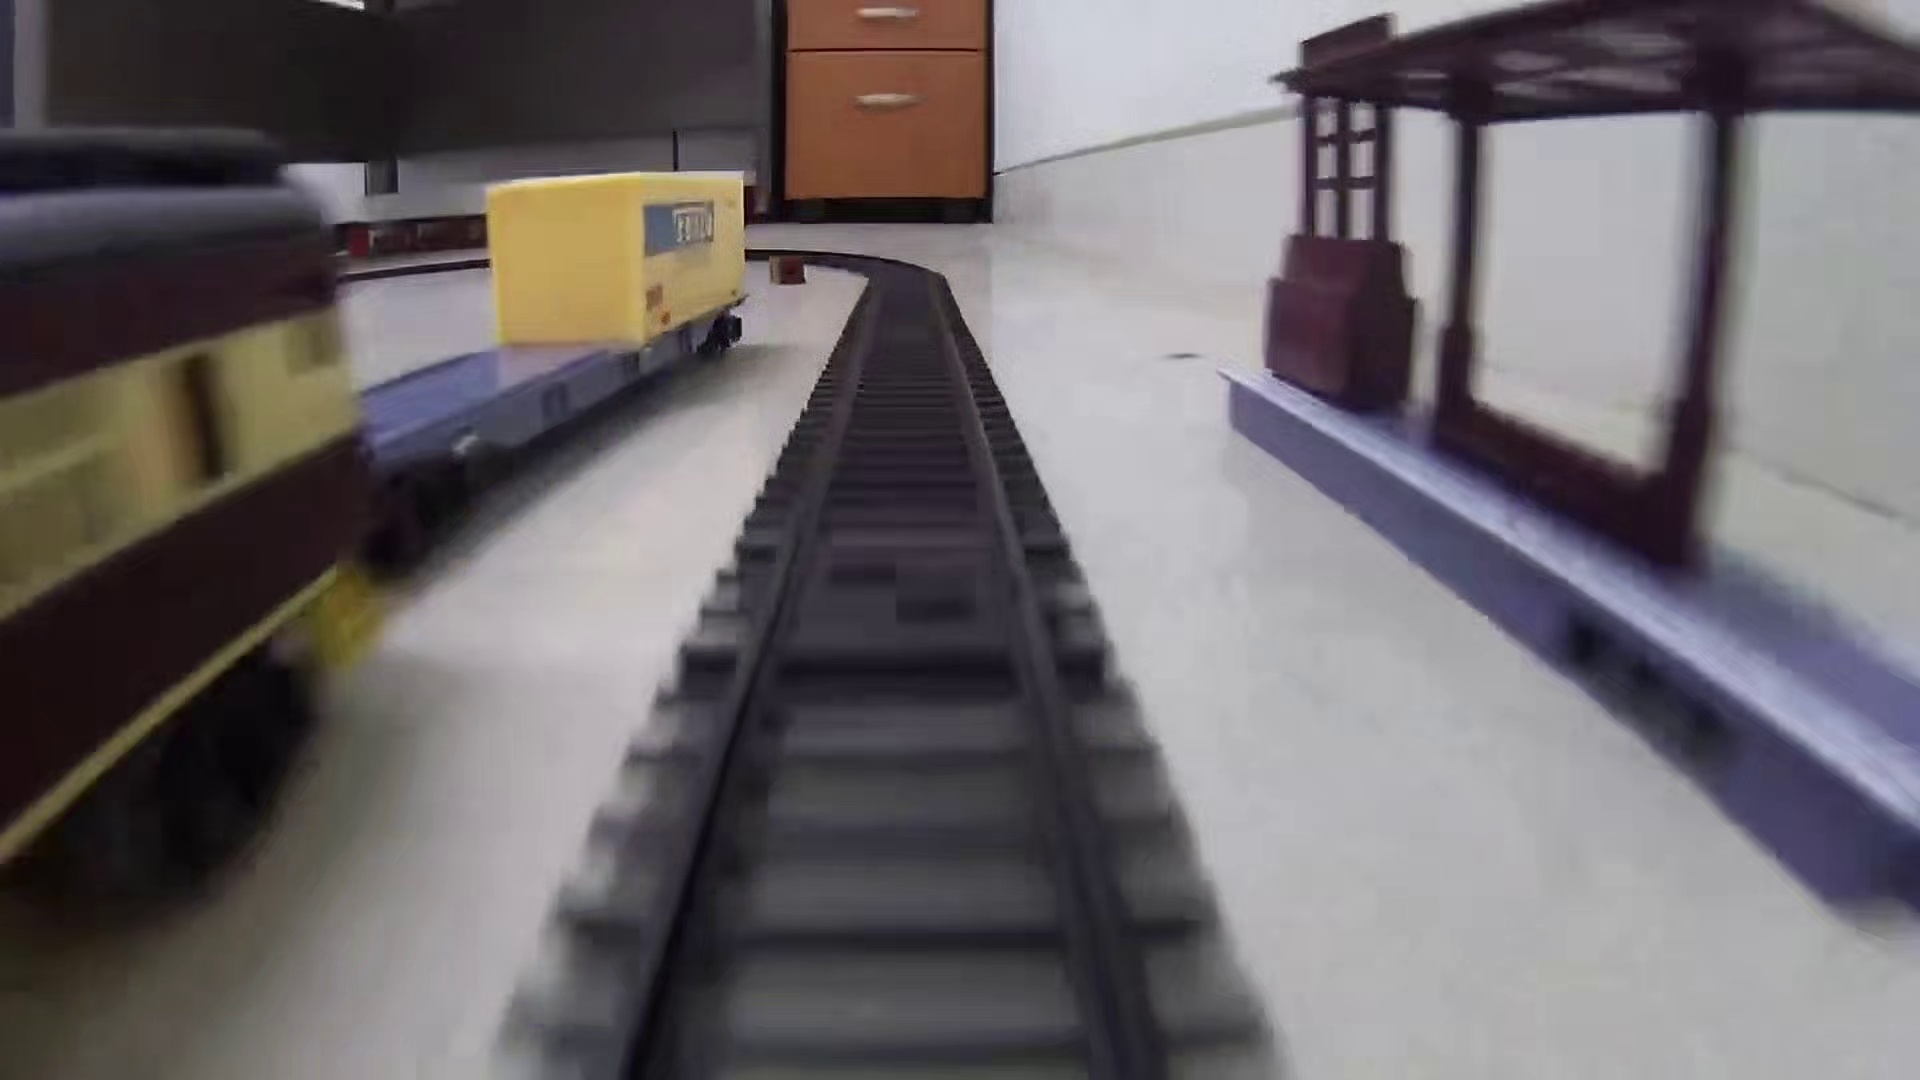box: (765, 253, 809, 287)
